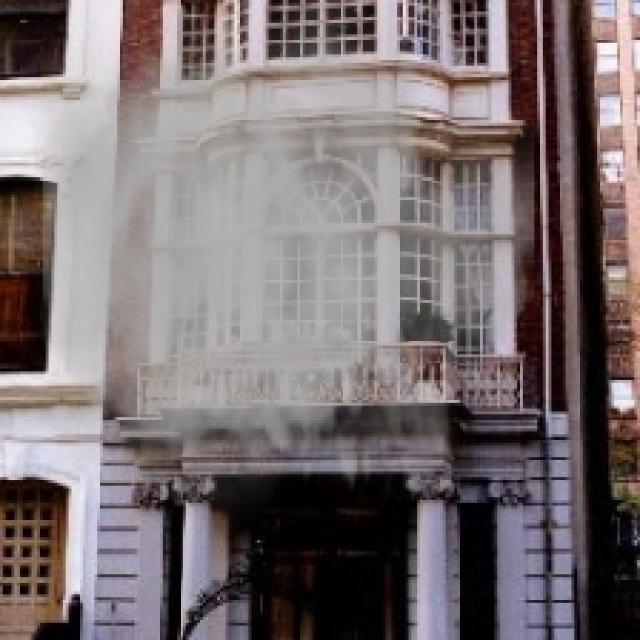Smoke: (12, 0, 534, 549)
